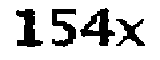1: (13, 6, 43, 49)
4: (80, 5, 114, 50)
5: (48, 6, 77, 51)
x: (114, 15, 149, 49)
